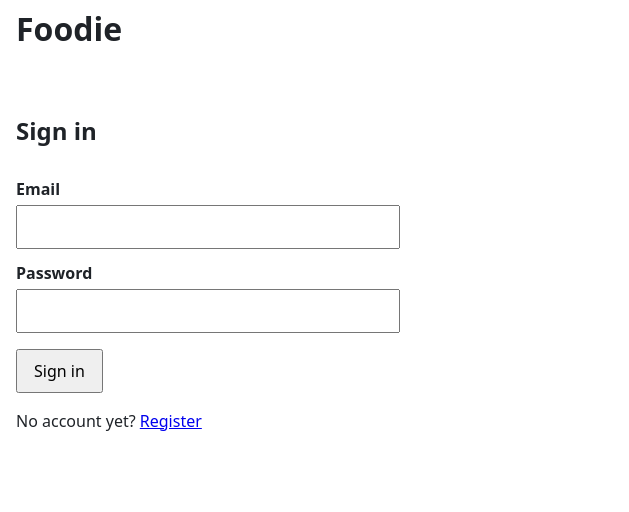
Test: App › explains a refused sign-in and stays on the page
This screenshot has width=629, height=512.
Type "sam@example.com" into the field labelled "Email" at (208, 227), box [16,205,400,249]
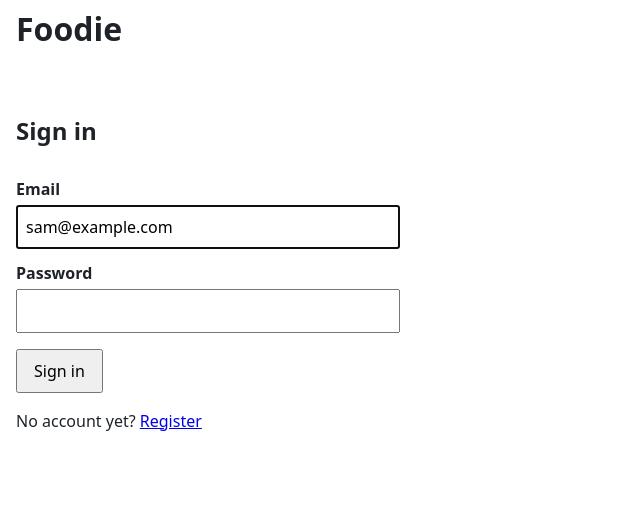
Type "wrong" into the password field labelled "Password" at (208, 311), box [16,289,400,333]
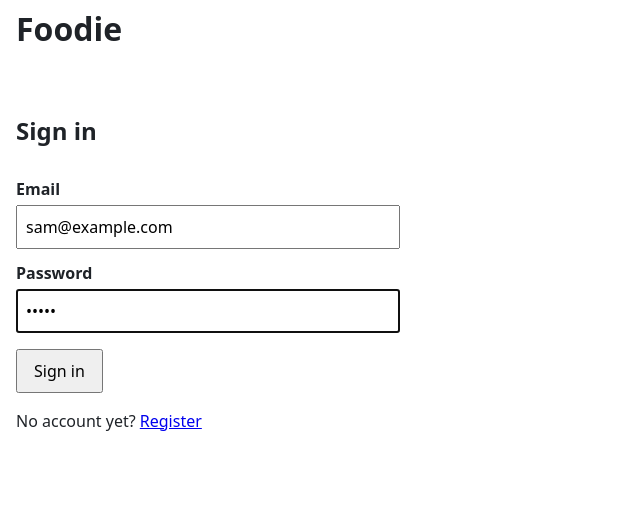
Click the button "Sign in" at (59, 371), box [16,349,103,393]
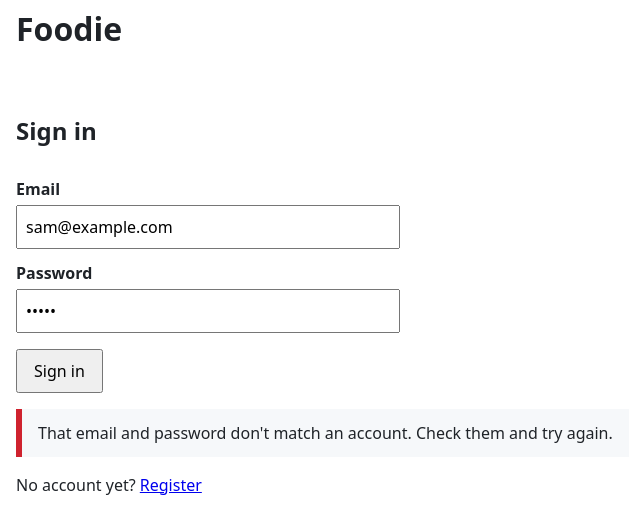
Expected: the message reads "That email and password don't match an account. Check them and try again.", [38,422,613,444]
